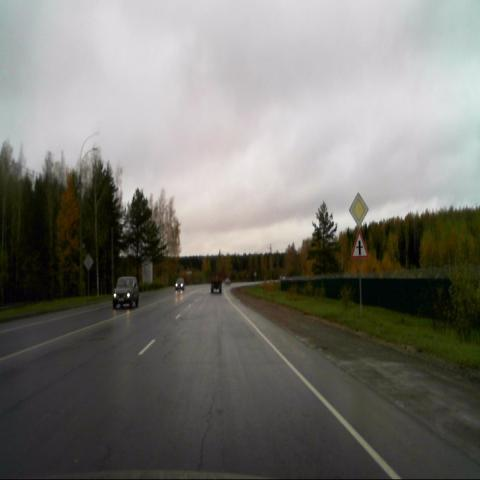2_1: (348, 191, 368, 227)
2_3: (350, 230, 369, 260)
